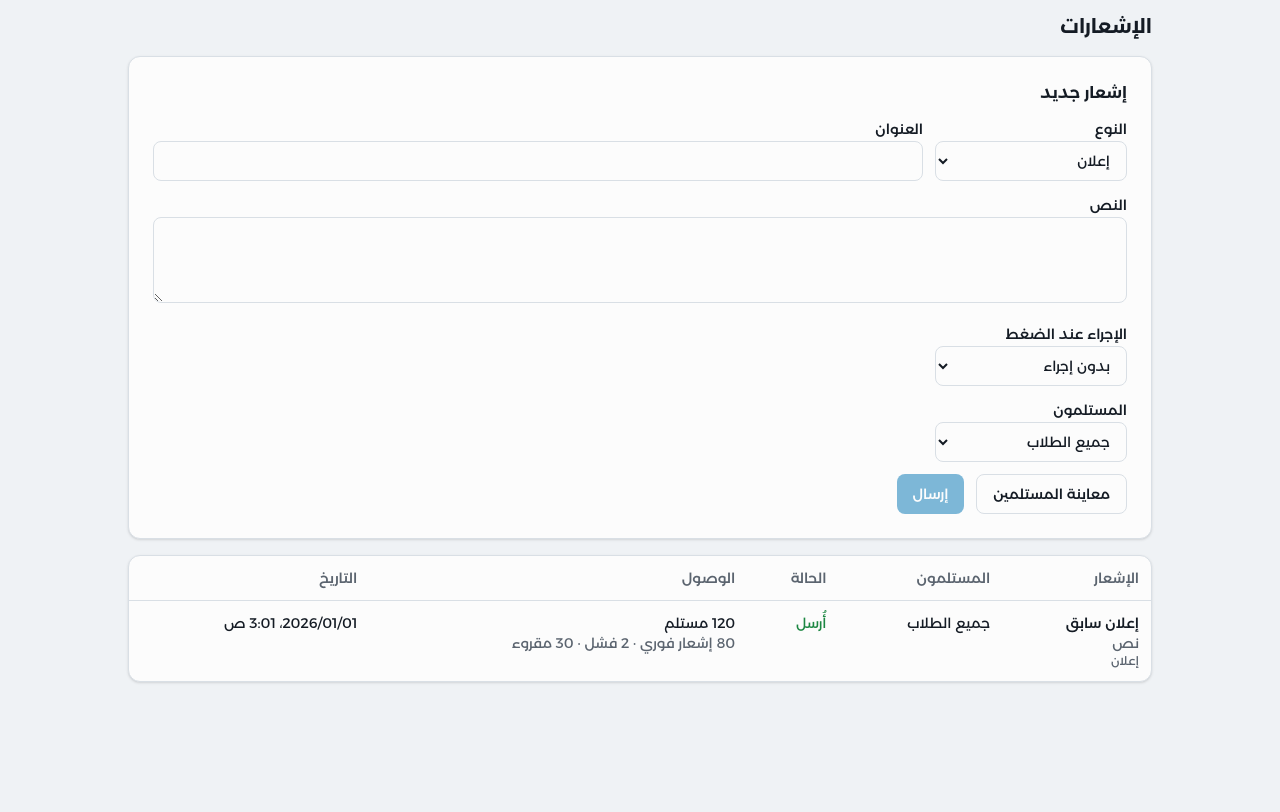
Test case: notifications (§20.2) › composes a targeted notification and shows delivery counts in the history
Expected: the text "إعلان سابق" is shown, [1066,614,1139,632]
Expected: the text "120 مستلم" is shown, [664,614,735,632]
Select "عرض" in the dropdown labelled "النوع": (1031, 161) [935,141,1127,181]
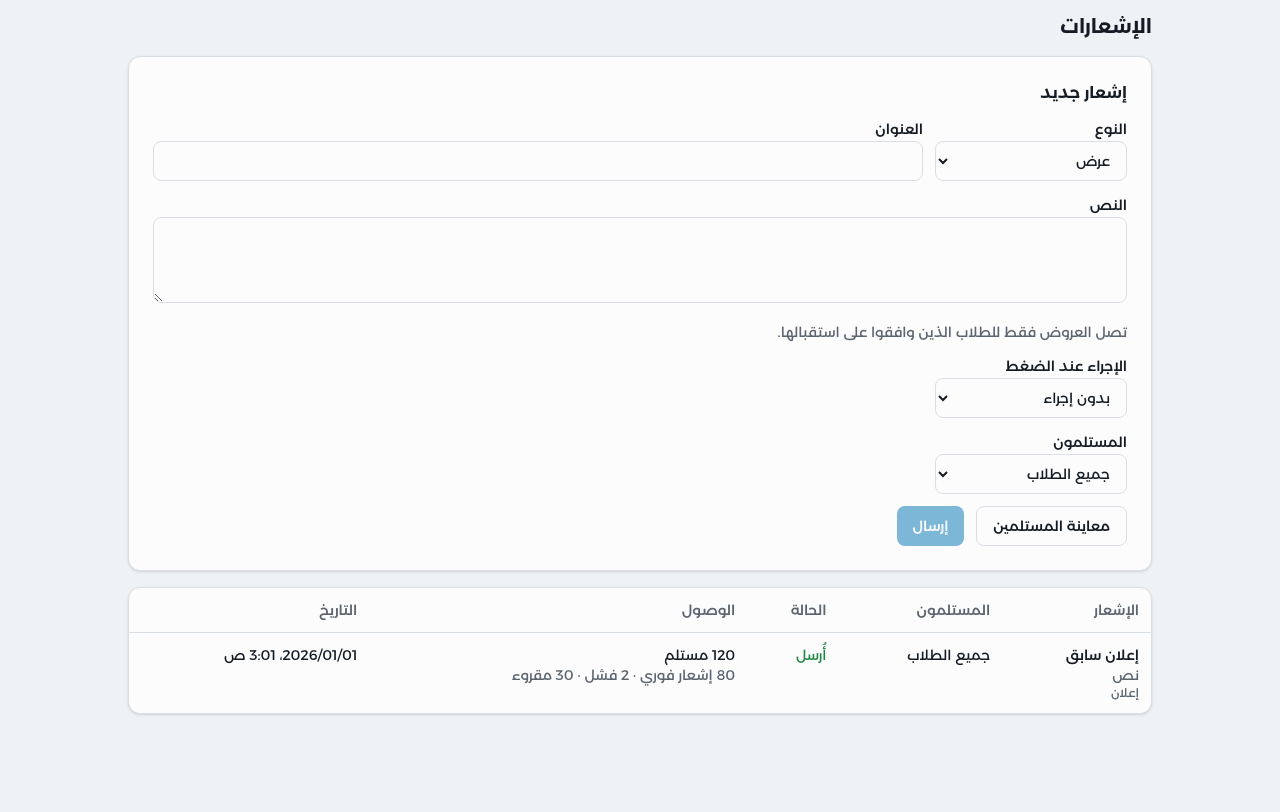
Now the text "تصل العروض فقط للطلاب الذين وافقوا على استقبالها." is shown, box [778,323,1127,341]
In the field labelled "العنوان": (538, 161) [153,141,923,181], type "خصم"
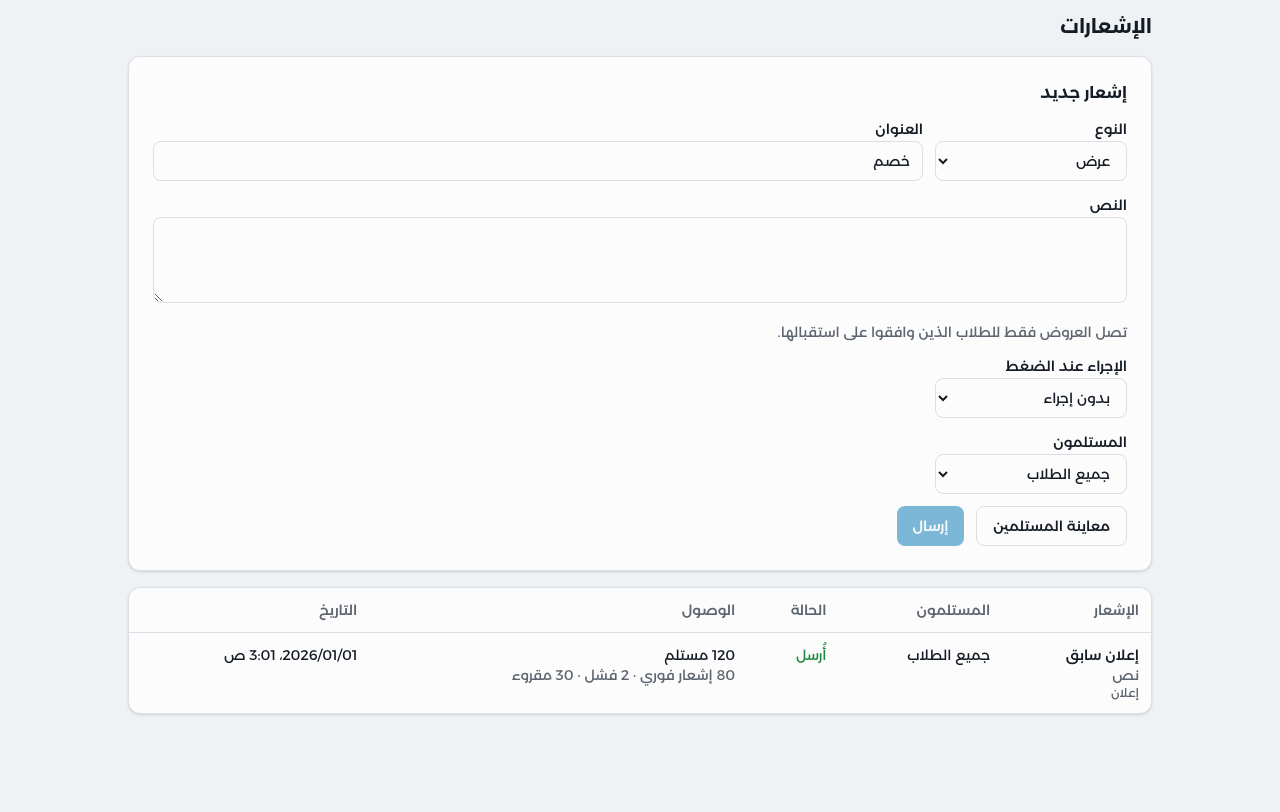
In the text box labelled "النص": (640, 260) [153,217,1127,303], type "عرض لطلاب البكالوريا"
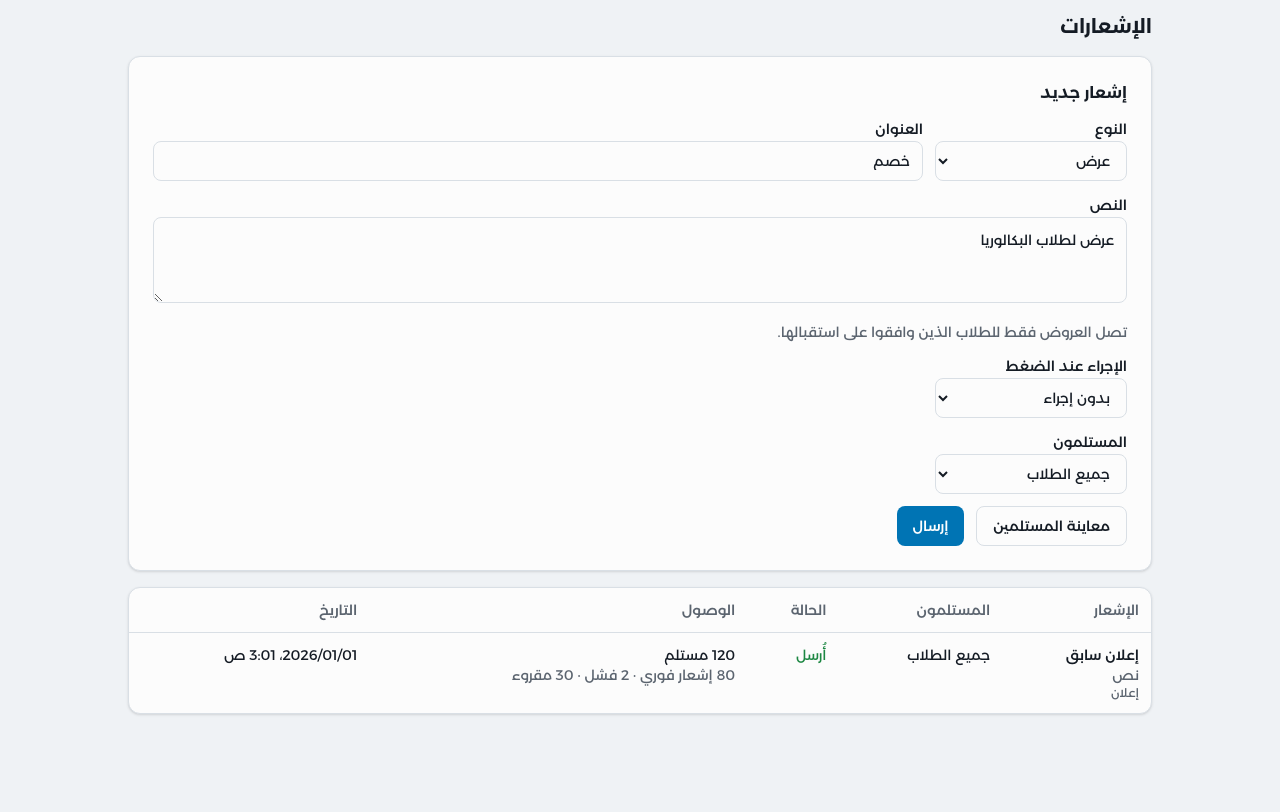
Select "مرحلة تعليمية" in the dropdown labelled "المستلمون": (1031, 474) [935,454,1127,494]
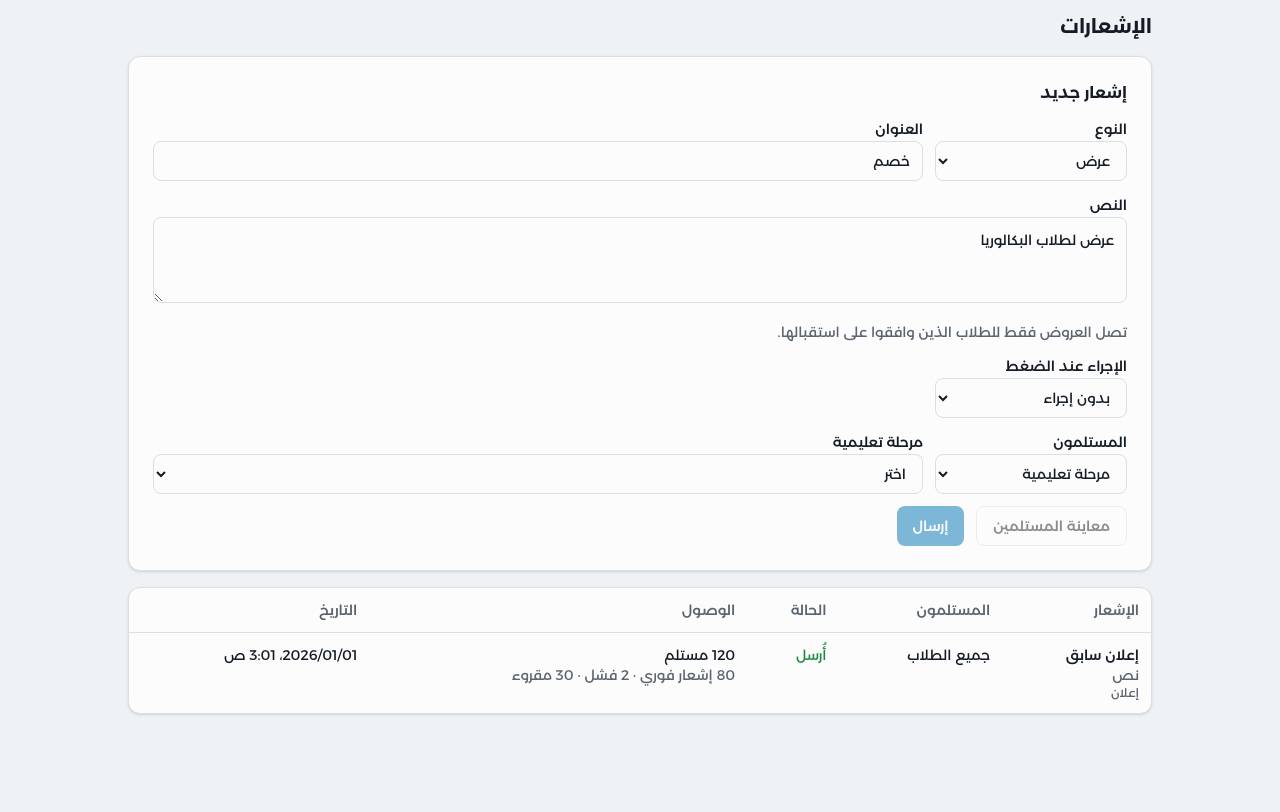
Now the button "إرسال" is disabled, box [896,506,964,546]
Select "البكالوريا" in the dropdown labelled "مرحلة تعليمية": (538, 474) [153,454,923,494]
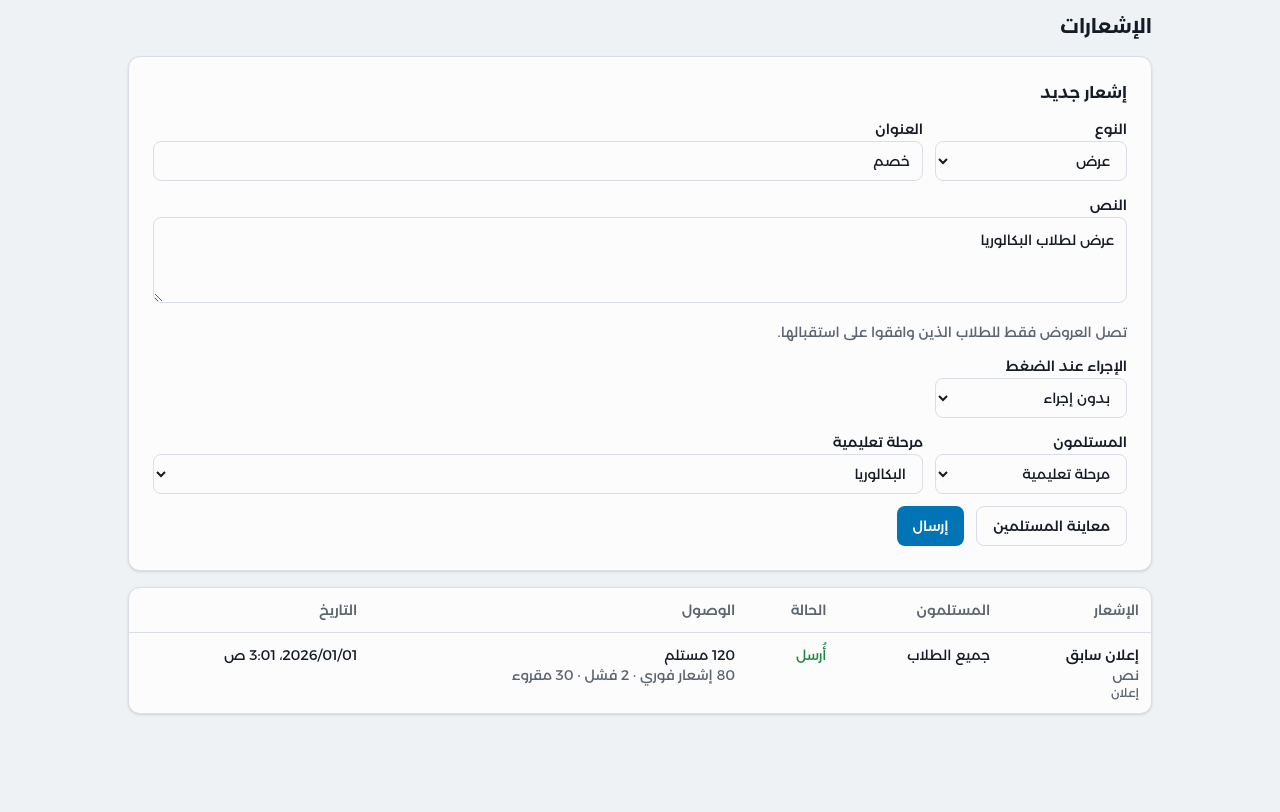
Click the button "إرسال": (930, 526) [896,506,964,546]
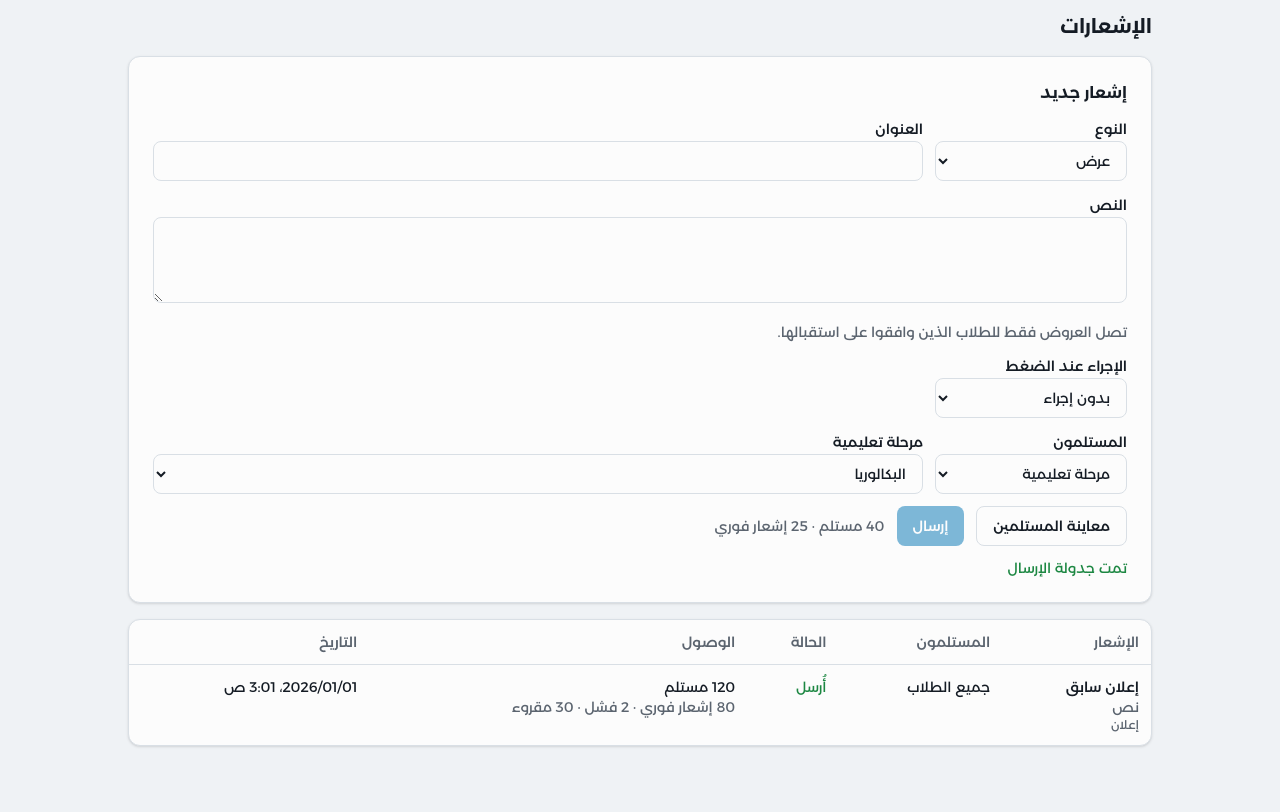
Now the text "تمت جدولة الإرسال" is shown, box [1008,559,1127,577]
Now the text "40 مستلم · 25 إشعار فوري" is shown, box [714,516,884,536]
